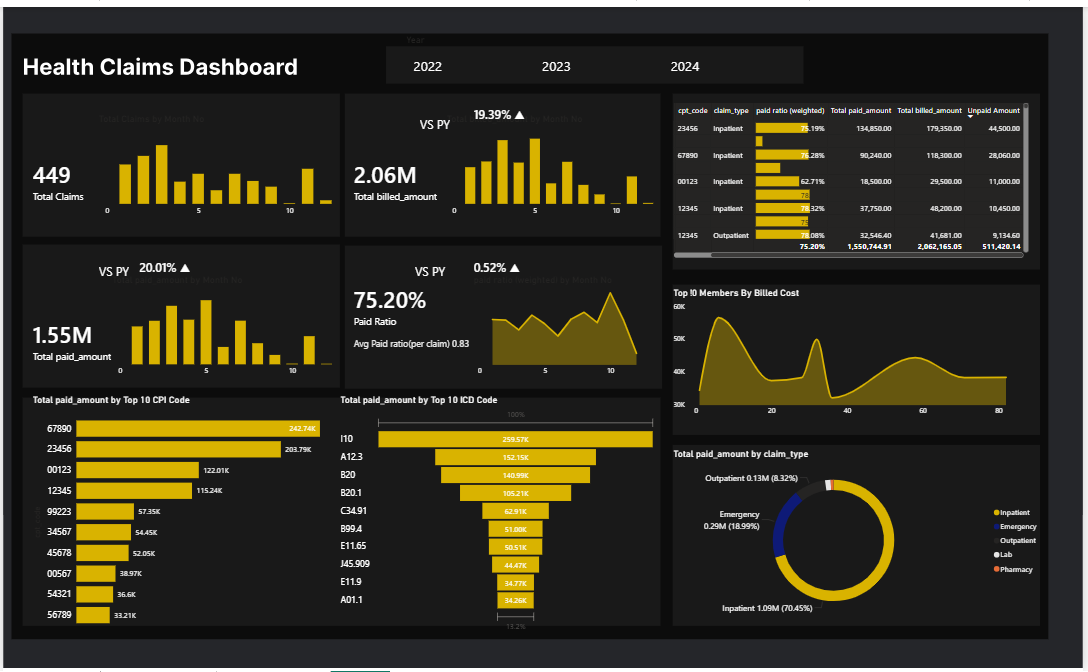

What the dashboard file says about the page in this screenshot:
{"tool":"powerbi","page":{"name":"Page 2","canvas":[1940,1193],"ordinal":0},"visuals":[{"type":"cardVisual","fields":{"Data":["Analysis.Total Claims"]},"box":[24,216,312,192],"z":0},{"type":"columnChart","fields":{"Y":["Analysis.Total Claims"],"Category":["Date.Month No"]},"box":[168,192,432,192],"z":1000},{"type":"cardVisual","fields":{"Data":["Analysis.Total paid_amount"]},"box":[24,504,312,192],"z":2000},{"type":"columnChart","fields":{"Category":["Date.Month No"],"Y":["Analysis.Total billed_amount"]},"box":[792,192,384,192],"z":3000},{"type":"advancedSlicerVisual","fields":{"Values":["Date.Year"]},"box":[720,48,696,96],"z":4000},{"type":"textbox","box":[168,456,120,48],"z":5000},{"type":"cardVisual","fields":{"Data":["Analysis.Yoy trend paid"]},"box":[216,408,216,120],"z":6000},{"type":"cardVisual","fields":{"Data":["Analysis.Total billed_amount"]},"box":[600,216,312,192],"z":7000},{"type":"columnChart","fields":{"Category":["Date.Month No"],"Y":["Analysis.Total paid_amount"]},"box":[192,480,408,192],"z":8000},{"type":"cardVisual","fields":{"Data":["Analysis.paid ratio"]},"box":[600,480,312,192],"z":9000},{"type":"lineChart","fields":{"Category":["Date.Month No"],"Y":["Analysis.paid ratio (weighted)"]},"box":[840,480,312,192],"z":10000},{"type":"cardVisual","fields":{"Data":["Analysis.Yoy trend PR"]},"box":[816,408,216,120],"z":11000},{"type":"cardVisual","fields":{"Data":["Analysis.Yoy trend bill"]},"box":[816,144,216,96],"z":12000},{"type":"textbox","box":[744,192,144,72],"z":13000},{"type":"textbox","box":[696,456,144,72],"z":14000},{"type":"clusteredBarChart","title":"Total paid_amount by Top 10 CPI Code","fields":{"Category":["claims 2.cpt_code"],"Y":["Analysis.Total paid_amount"]},"box":[48,696,576,432],"z":15000},{"type":"funnel","title":"Total paid_amount by Top 10 ICD Code","fields":{"Category":["claims 2.icd_code"],"Y":["Sum(claims 2.paid_amount)"]},"box":[600,696,576,432],"z":16000},{"type":"donutChart","fields":{"Category":["claims 2.claim_type"],"Y":["Analysis.Total paid_amount"]},"box":[1200,792,672,312],"z":17000},{"type":"lineChart","title":"Top !0 Members By Billed Cost","fields":{"Category":["claims 2.member_id"],"Y":["Analysis.Total billed_amount"]},"box":[1200,504,672,240],"z":18000},{"type":"tableEx","fields":{"Values":["claims 2.provider_id","claims 2.cpt_code","claims 2.claim_type","Analysis.paid ratio (weighted)","Analysis.Total paid_amount","Analysis.Total billed_amount"]},"box":[1200,168,648,288],"z":19000}]}

Visuals, with their boxes in screenshot pixels (x1, y1, x2, y2), scaled from the page's 1940x1193 canvas onto the 1088x672 screenshot:
cardVisual - Analysis.Total Claims: [13,122,188,230]
columnChart - Analysis.Total Claims x Date.Month No: [94,108,336,216]
cardVisual - Analysis.Total paid_amount: [13,284,188,392]
columnChart - Date.Month No x Analysis.Total billed_amount: [444,108,660,216]
advancedSlicerVisual - Date.Year: [404,27,794,81]
textbox: [94,257,162,284]
cardVisual - Analysis.Yoy trend paid: [121,230,242,297]
cardVisual - Analysis.Total billed_amount: [336,122,511,230]
columnChart - Date.Month No x Analysis.Total paid_amount: [108,270,336,379]
cardVisual - Analysis.paid ratio: [336,270,511,379]
lineChart - Date.Month No x Analysis.paid ratio (weighted): [471,270,646,379]
cardVisual - Analysis.Yoy trend PR: [458,230,579,297]
cardVisual - Analysis.Yoy trend bill: [458,81,579,135]
textbox: [417,108,498,149]
textbox: [390,257,471,297]
"Total paid_amount by Top 10 CPI Code" clusteredBarChart: [27,392,350,635]
"Total paid_amount by Top 10 ICD Code" funnel: [336,392,660,635]
donutChart - claims 2.claim_type x Analysis.Total paid_amount: [673,446,1050,622]
"Top !0 Members By Billed Cost" lineChart: [673,284,1050,419]
tableEx - claims 2.provider_id x claims 2.cpt_code: [673,95,1036,257]
